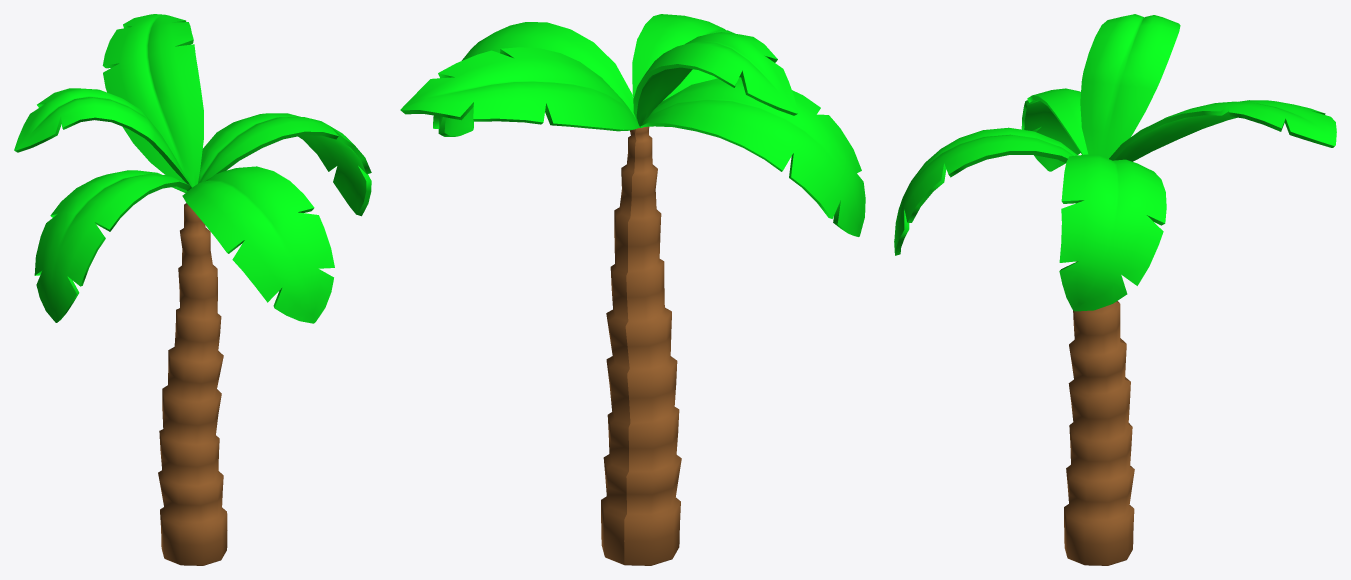
The model's file is Palm.fbx.
The picture shows the model from 3 angles, left to right: view 1: azimuth 30°, elevation 25°; view 2: azimuth 150°, elevation 25°; view 3: azimuth 270°, elevation 25°; orthographic projection. The views are drawn at different scales.
Visible parts, largest first — view 1: object_26; view 2: object_26; view 3: object_26.
Boxes of the visible parts, x1,y1,x2,y2 form: object_26: (14, 14, 371, 565); object_26: (400, 14, 865, 565); object_26: (894, 14, 1336, 565).
Size of the model in its own units: 280 by 382 by 316.
